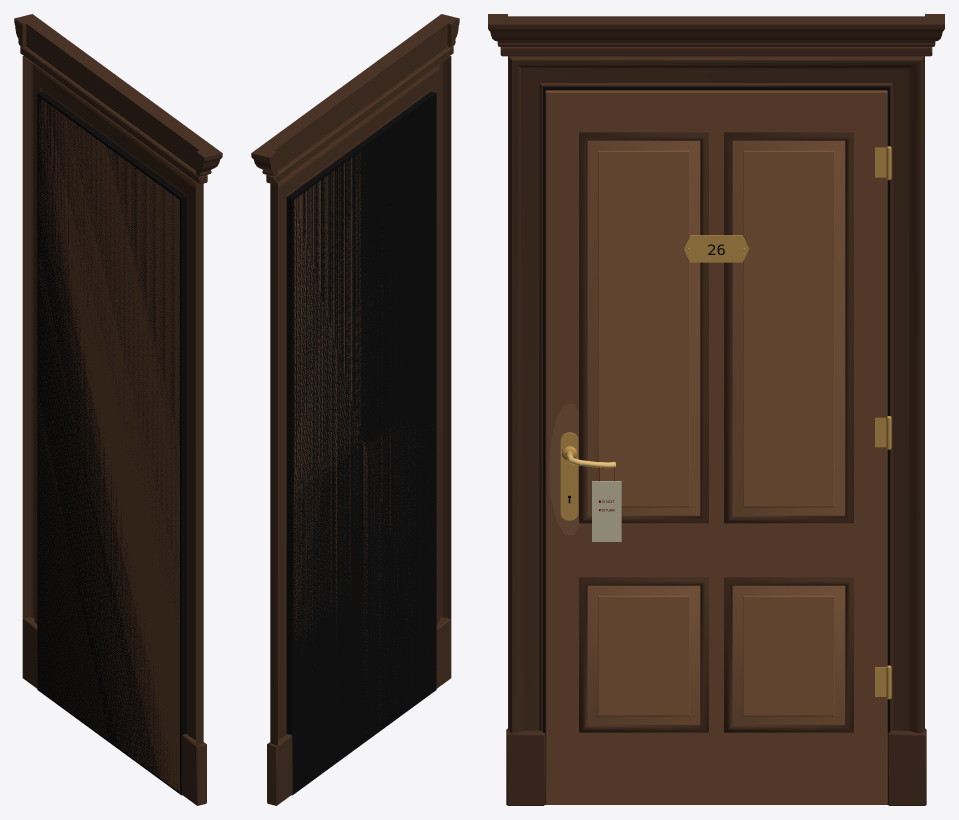
Rendered from hotel_door_f@2.glb.
3 renders of one model, left to right at view 1: azimuth 30°, elevation 25°; view 2: azimuth 150°, elevation 25°; view 3: azimuth 270°, elevation 25°, orthographic. The views are drawn at different scales.
Parts seen in each view (by area): view 1: blatt, fuge, bekleidung, verdachung; view 2: fuge, bekleidung, blatt, verdachung; view 3: fuellungen, blatt, bekleidung, kehlleisten, verdachung, fuge, beschlag, abrieb, karte, nummernschild.
Boxes of the visible parts, x1,y1,x2,y2 form: blatt: (38, 97, 179, 792); fuge: (37, 91, 187, 795); bekleidung: (22, 56, 206, 805); verdachung: (14, 14, 222, 184); fuge: (286, 91, 436, 795); bekleidung: (267, 56, 451, 805); blatt: (294, 152, 425, 731); verdachung: (251, 14, 459, 184); fuellungen: (587, 140, 845, 724); blatt: (545, 90, 887, 804); bekleidung: (506, 56, 926, 805); kehlleisten: (579, 132, 853, 732); verdachung: (488, 14, 944, 56); fuge: (543, 86, 889, 804); beschlag: (560, 146, 891, 699); abrieb: (549, 403, 581, 535); karte: (592, 481, 621, 541); nummernschild: (684, 235, 748, 262).
Size of the model in its own units: 0.1169 by 2.33 by 1.23.
